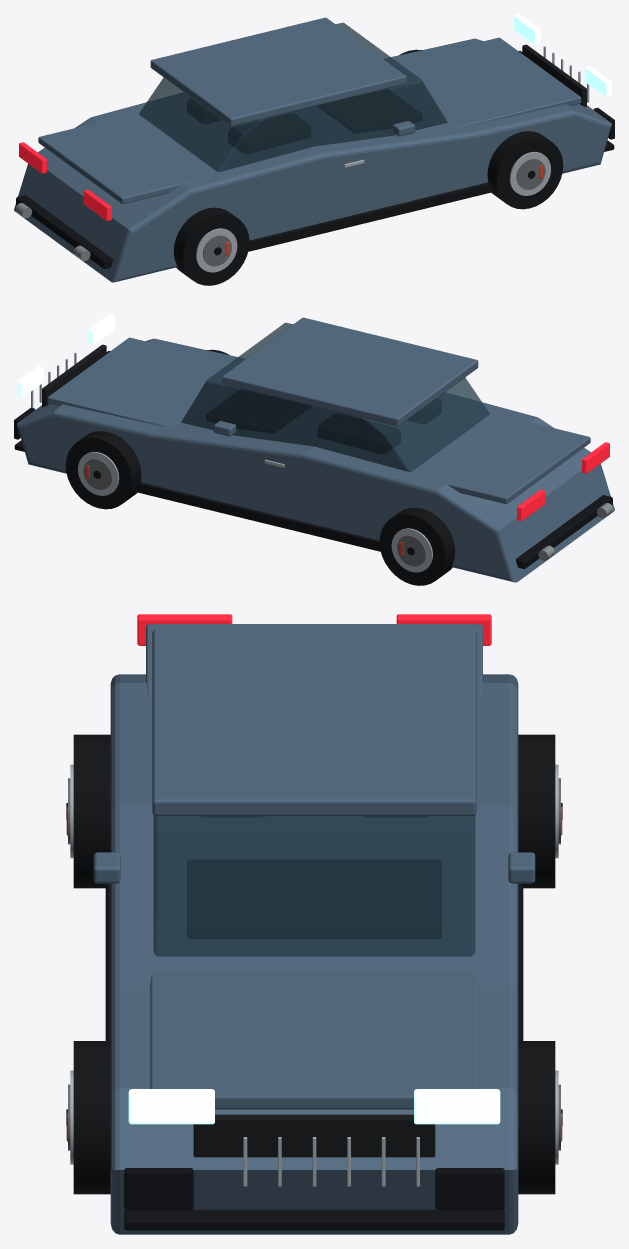
Rendered from rr_spectre.glb.
3 views of the same model, one above another, from view 1: azimuth 30°, elevation 25°; view 2: azimuth 150°, elevation 25°; view 3: azimuth 270°, elevation 25° (orthographic). The views are drawn at different scales.
Visible parts, largest first — view 1: sculpted_body, roof, glasshouse, hood_center, rear_deck, rear_right_wheel_tire, front_right_wheel_tire, side_skirt_1, dashboard, seat_1, rear_diffuser, front_grille (+9 smaller); view 2: sculpted_body, roof, glasshouse, hood_center, rear_deck, rear_left_wheel_tire, front_left_wheel_tire, side_skirt_-1, dashboard, seat_-1, rear_diffuser, front_grille (+9 smaller); view 3: sculpted_body, roof, glasshouse, hood_center, dashboard, front_grille, front_splitter, front_left_wheel_tire, front_right_wheel_tire, rear_left_wheel_tire, rear_right_wheel_tire, headlight_left (+10 smaller).
Boxes of the visible parts, box(x1,y1,x2,y2) form: sculpted_body: box(14, 38, 611, 282); roof: box(150, 17, 406, 126); glasshouse: box(139, 22, 447, 171); hood_center: box(391, 37, 581, 127); rear_deck: box(38, 118, 200, 204); rear_right_wheel_tire: box(173, 207, 249, 285); front_right_wheel_tire: box(487, 131, 563, 209); side_skirt_1: box(248, 182, 492, 251); dashboard: box(318, 89, 421, 132); seat_1: box(228, 114, 310, 153); rear_diffuser: box(16, 195, 112, 268); front_grille: box(522, 44, 586, 107); sculpted_body: box(17, 338, 614, 582); roof: box(222, 317, 478, 426); glasshouse: box(181, 322, 489, 471); hood_center: box(47, 337, 237, 427); rear_deck: box(428, 418, 590, 504); rear_left_wheel_tire: box(379, 507, 455, 585); front_left_wheel_tire: box(65, 431, 141, 509); side_skirt_-1: box(136, 482, 380, 551); dashboard: box(207, 389, 310, 432); seat_-1: box(318, 414, 400, 453); rear_diffuser: box(516, 495, 612, 568); front_grille: box(42, 344, 106, 407); sculpted_body: box(110, 674, 518, 1234); roof: box(152, 629, 476, 816); glasshouse: box(153, 815, 475, 956); hood_center: box(150, 971, 478, 1109); dashboard: box(187, 860, 441, 938); front_grille: box(193, 1114, 435, 1157); front_splitter: box(124, 1209, 504, 1230); front_left_wheel_tire: box(518, 1041, 555, 1194); front_right_wheel_tire: box(73, 1041, 110, 1194); rear_left_wheel_tire: box(518, 734, 555, 888); rear_right_wheel_tire: box(73, 734, 110, 888); headlight_left: box(414, 1089, 500, 1124).
Bounding box in the file's own units: 5.82 × 1.52 × 2.39.
